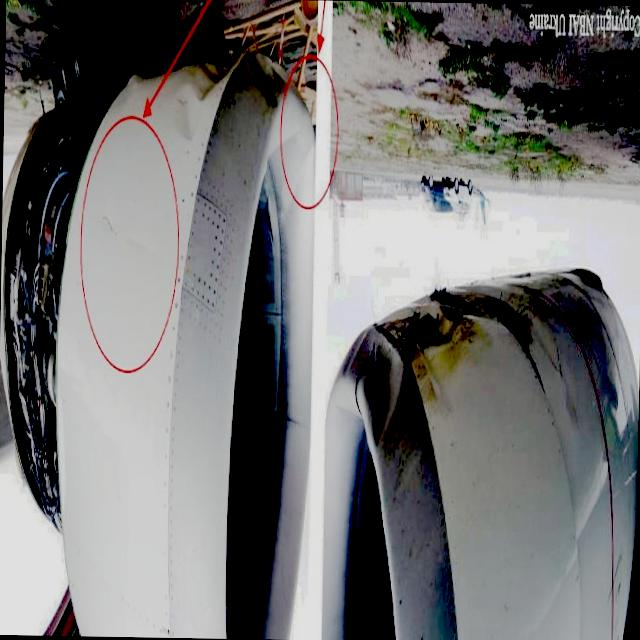crack: (98, 213, 118, 240)
dent: (170, 54, 240, 144)
